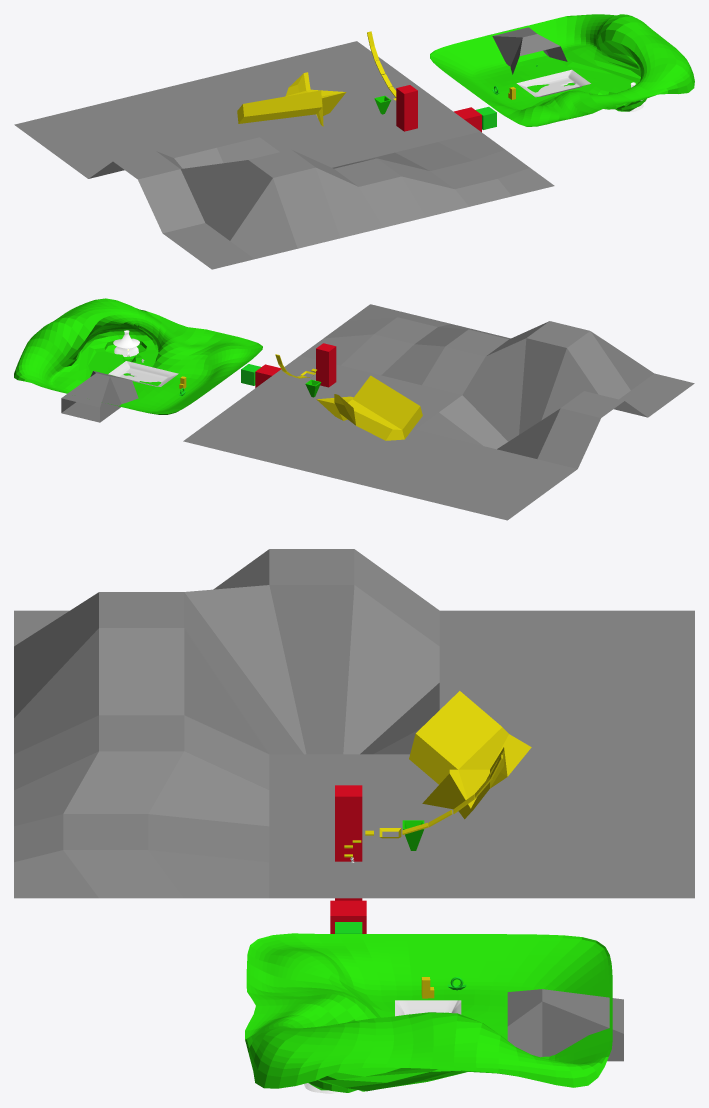
The model's file is blockout.glb.
The picture shows the model from 3 angles, top to bottom: view 1: azimuth 30°, elevation 25°; view 2: azimuth 150°, elevation 25°; view 3: azimuth 270°, elevation 25°; orthographic projection. The views are drawn at different scales.
Parts seen in each view (by area): view 1: Plane.002, Plane, Cube.016, Cube.001, Cube, Cube.004; view 2: Plane.002, Plane, Cube.016, Cube.001, Cube, Cube.004, Cylinder; view 3: Plane.002, Plane, Cube.016, Cube.001, Cube.004, Cube, Cube.003.
Boxes of the visible parts, box(x1,y1,x2,y2) form: Plane.002: box(14, 41, 554, 269); Plane: box(430, 14, 694, 126); Cube.016: box(237, 72, 346, 126); Cube.001: box(487, 27, 567, 74); Cube: box(516, 69, 590, 97); Cube.004: box(396, 85, 417, 131); Plane.002: box(183, 304, 694, 520); Plane: box(14, 298, 262, 414); Cube.016: box(316, 375, 422, 440); Cube.001: box(61, 371, 138, 422); Cube: box(108, 361, 178, 386); Cube.004: box(316, 343, 336, 387); Cylinder: box(113, 330, 139, 356); Plane.002: box(14, 549, 694, 898); Plane: box(245, 933, 612, 1092); Cube.016: box(409, 691, 531, 819); Cube.001: box(507, 989, 623, 1061); Cube.004: box(335, 785, 362, 900); Cube: box(395, 1000, 461, 1016); Cube.003: box(330, 900, 366, 933).
Size of the model in its own units: 685 by 122 by 415.
